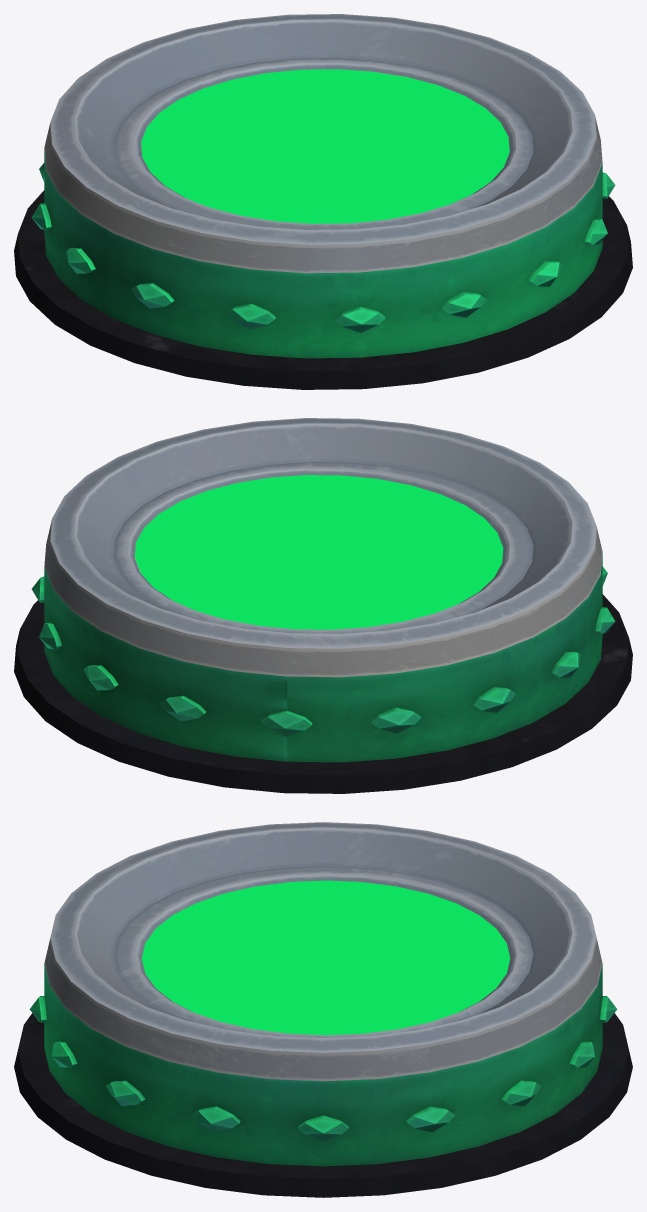
The model's file is LaserBase3.glb.
3 views of the same model, one above another, from view 1: azimuth 30°, elevation 25°; view 2: azimuth 150°, elevation 25°; view 3: azimuth 270°, elevation 25° (orthographic).
Visible parts, largest first — view 1: Laser Base3; view 2: Laser Base3; view 3: Laser Base3.
Part boxes in pixels (x1,y1,x2,y2): Laser Base3: [14, 14, 632, 389]; Laser Base3: [14, 418, 632, 793]; Laser Base3: [14, 822, 632, 1197].
Bounding box in the file's own units: 2.22 × 0.5303 × 2.22.
Materials: 1 (1 with a texture image).
